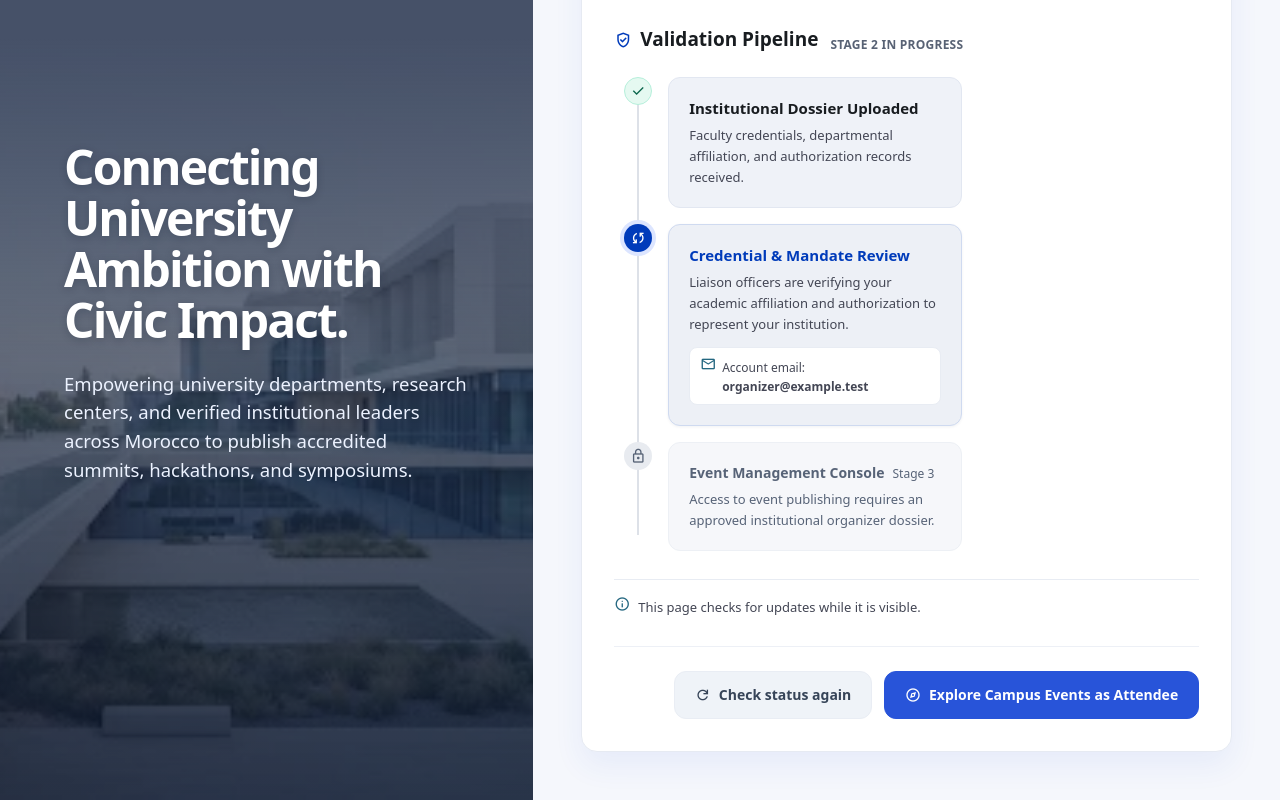
Test: merged registration and login routes › hides pending content when refresh fails and permits retry
The width and height of the screenshot is (1280, 800).
(page scrolled)
Click the button "Check status again" at (773, 695), box [674,671,872,719]
(page scrolled)
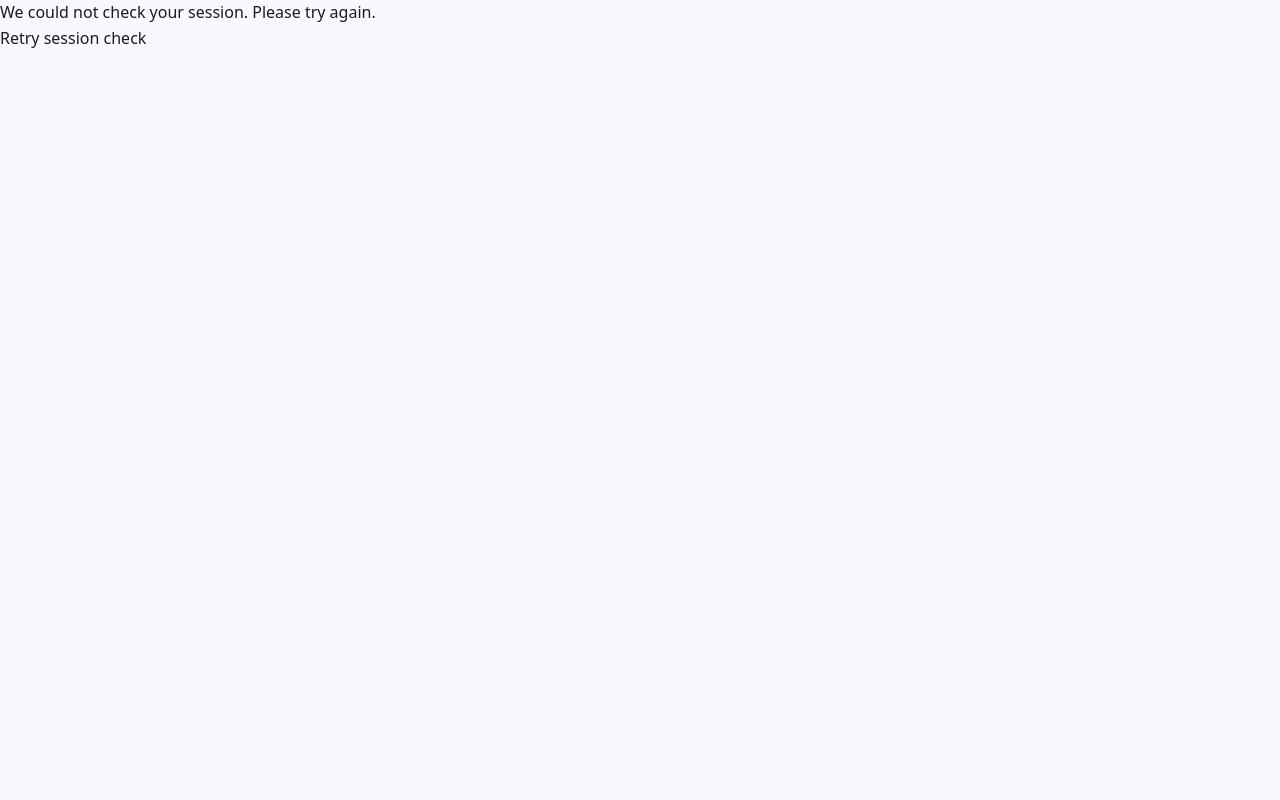
Check: the message shows "We could not check your session", box [0,1,376,23]
Click the button "Retry session check" at (73, 38), box [0,26,146,50]
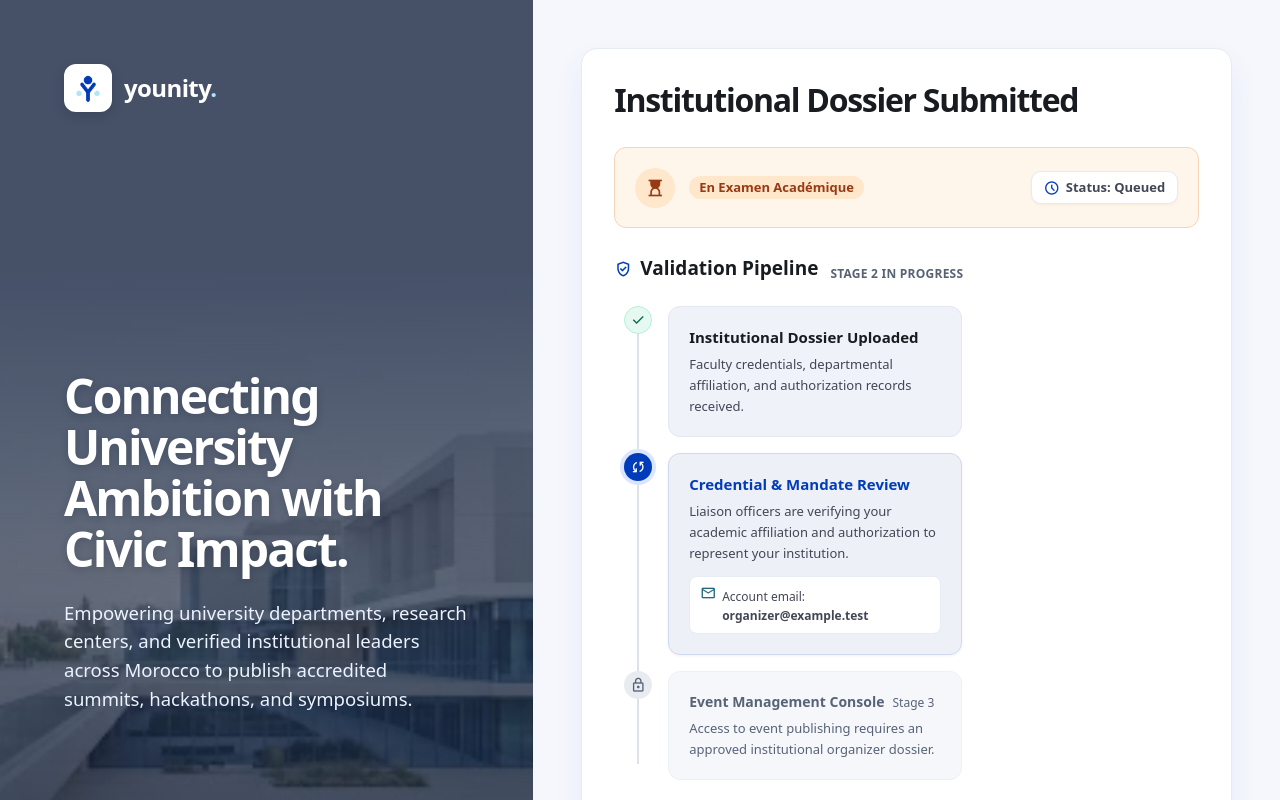
Check: the heading "Institutional Dossier Submitted" is shown, box [614,78,1078,121]
